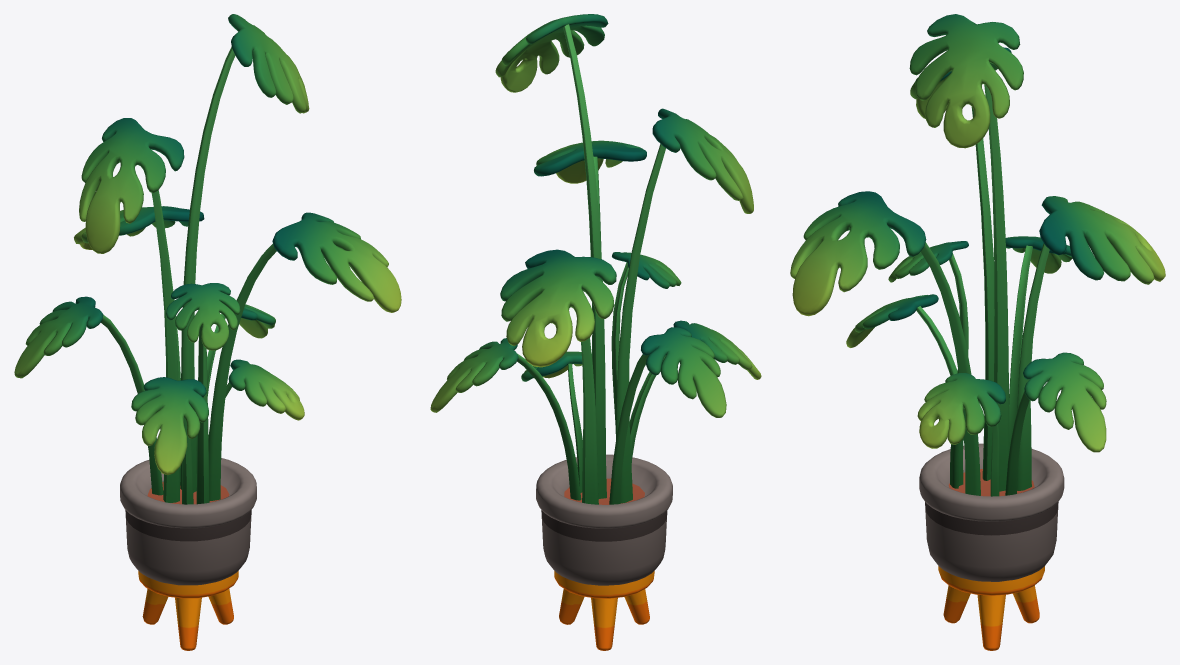
Rendered from Plant.fbx.
3 renders of one model, left to right at view 1: azimuth 30°, elevation 25°; view 2: azimuth 150°, elevation 25°; view 3: azimuth 270°, elevation 25°, orthographic. The views are drawn at different scales.
Visible parts, largest first — view 1: Plant; view 2: Plant; view 3: Plant.
Part boxes in pixels (bbox=[...]): Plant: bbox=[14, 14, 401, 650]; Plant: bbox=[430, 14, 761, 650]; Plant: bbox=[790, 14, 1165, 650].
Bounding box in the file's own units: 114 × 237 × 127.
